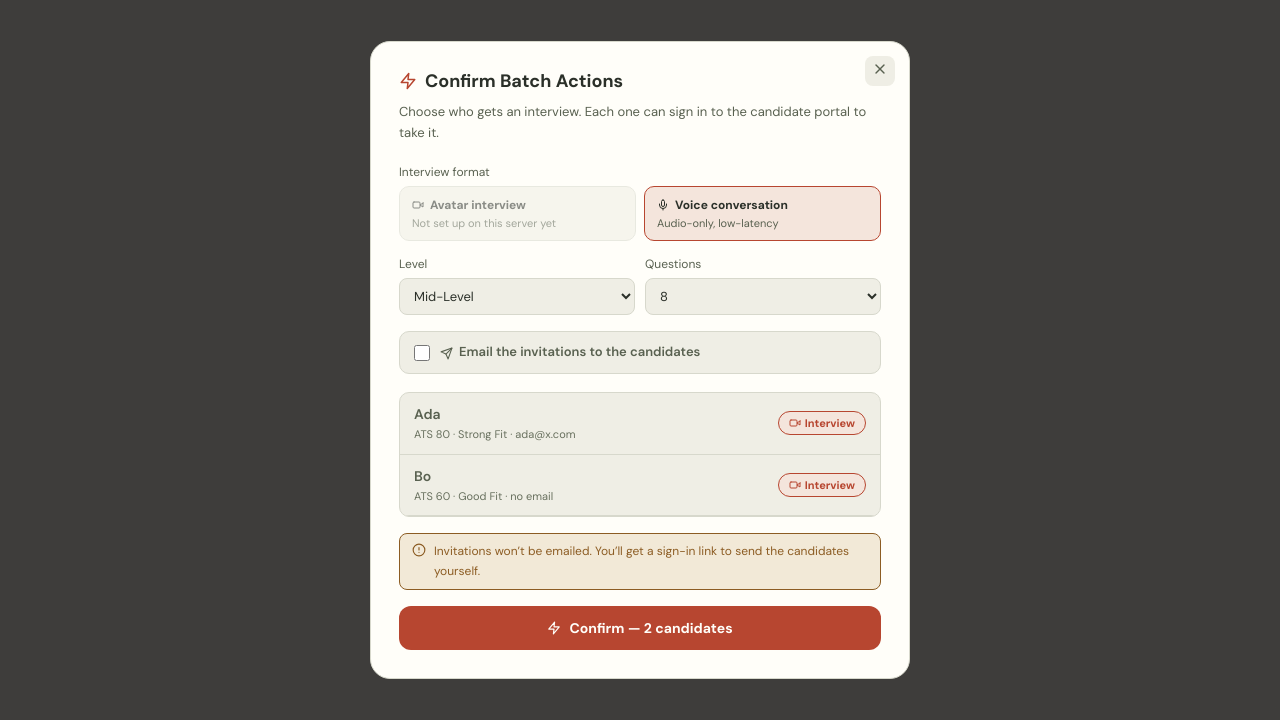
Scenario: the batch dialog › sends only what the server uses
Click the button "Confirm — 2 candidates": coordinates (640, 628) [399,606,881,650]
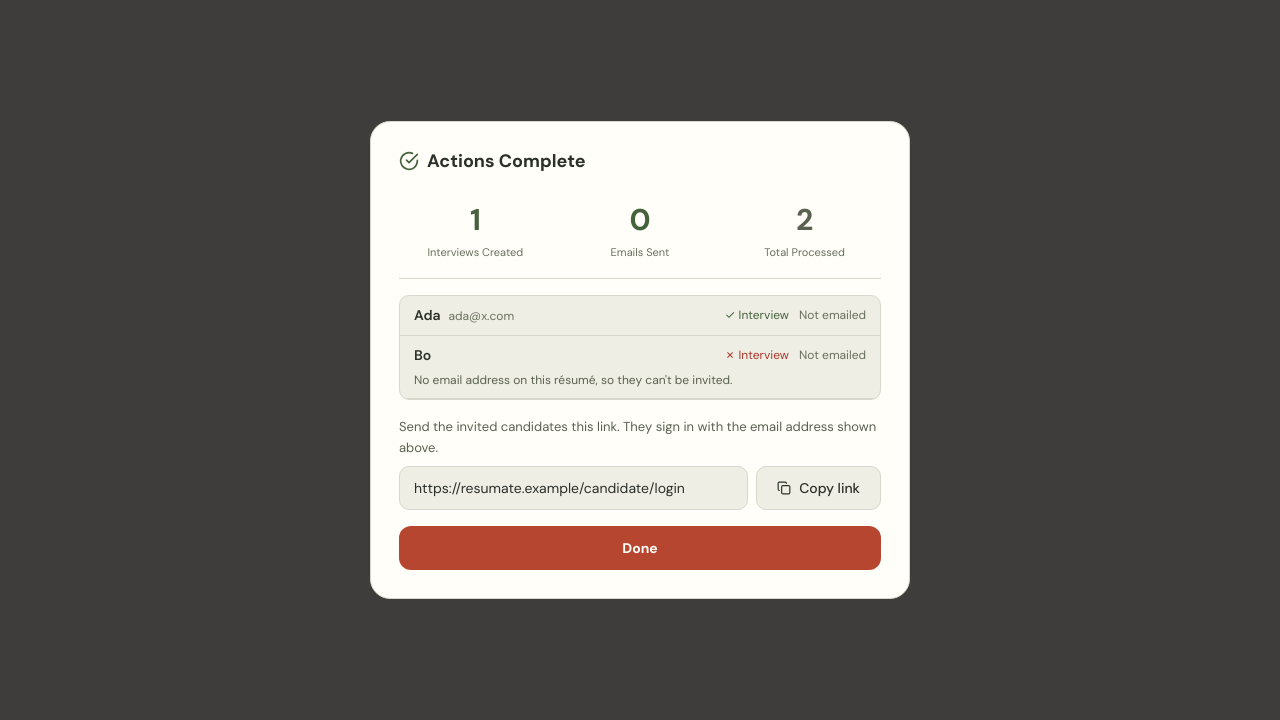
Expected: the heading "Actions Complete" is shown, [399,149,586,173]
